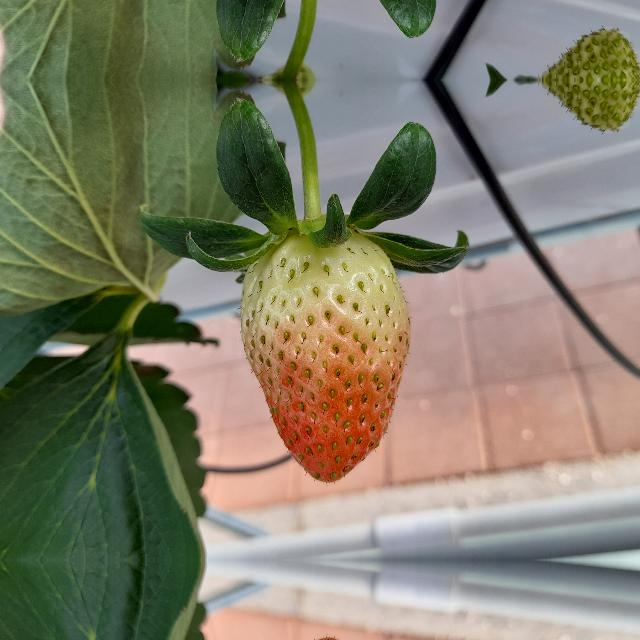Health_25: (541, 80, 639, 132), (541, 28, 639, 80)
Health_75: (240, 228, 410, 484)
